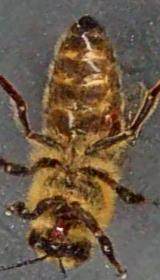varroa_mite: (96, 106, 124, 133)
